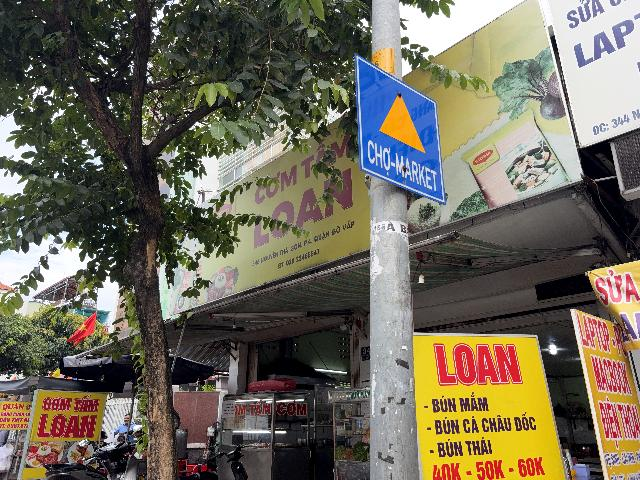khu-vuc-cho-phia-truoc: (355, 53, 446, 206)
